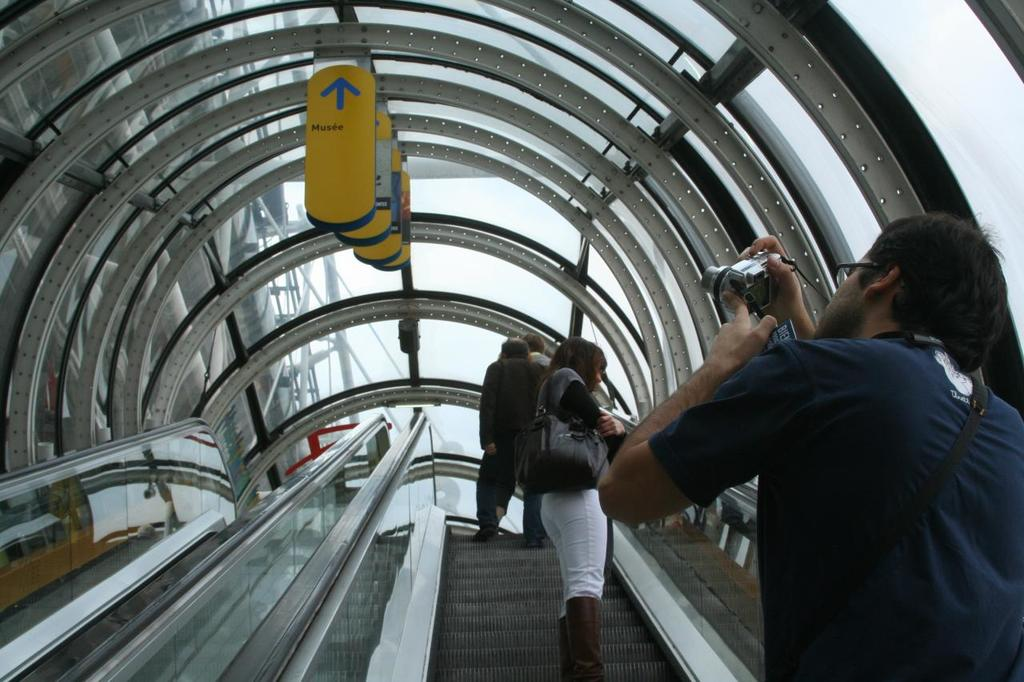Person: (596, 209, 1024, 682), (512, 332, 627, 682), (476, 335, 545, 539), (523, 331, 553, 541)
